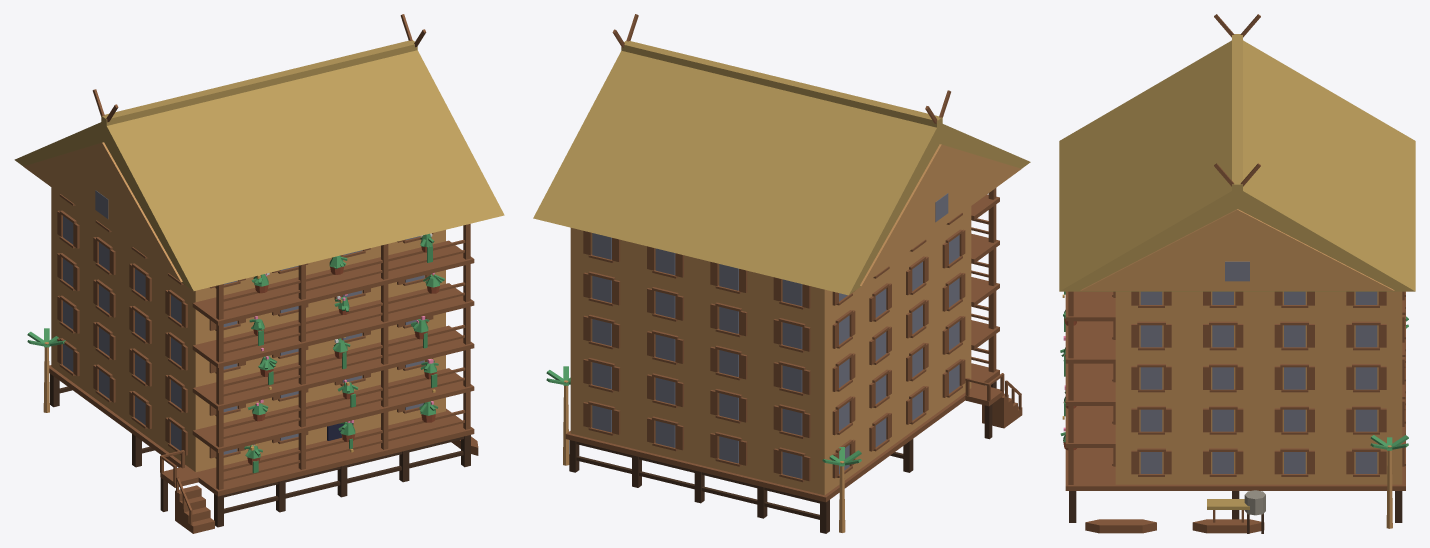
File: house-2x2-5f-stilt-a.glb
3 renders of one model, left to right at view 1: azimuth 30°, elevation 25°; view 2: azimuth 150°, elevation 25°; view 3: azimuth 270°, elevation 25°, orthographic. The views are drawn at different scales.
Parts seen in each view (by area): view 1: house-2x2-5f-stilt-a; view 2: house-2x2-5f-stilt-a; view 3: house-2x2-5f-stilt-a.
Part boxes in pixels (bbox=[...]): house-2x2-5f-stilt-a: bbox=[14, 14, 504, 533]; house-2x2-5f-stilt-a: bbox=[533, 14, 1030, 533]; house-2x2-5f-stilt-a: bbox=[1059, 14, 1415, 533].
Bounding box in the file's own units: 2.02 × 2.29 × 1.99.
Materials: 1 (1 with a texture image).
